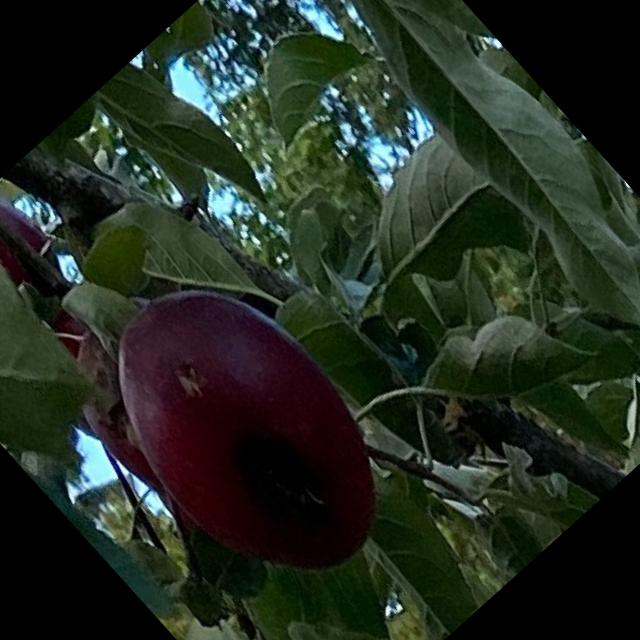Apples: (64, 246, 426, 616), (36, 324, 202, 500), (0, 178, 79, 305)
